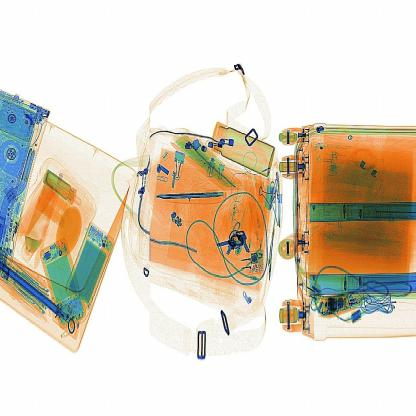pliers: (155, 186, 230, 214)
